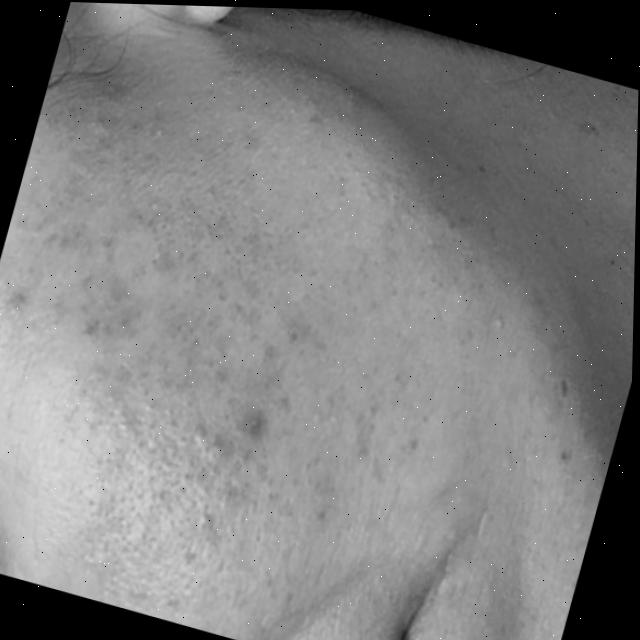Rosacea: (0, 103, 391, 515)
